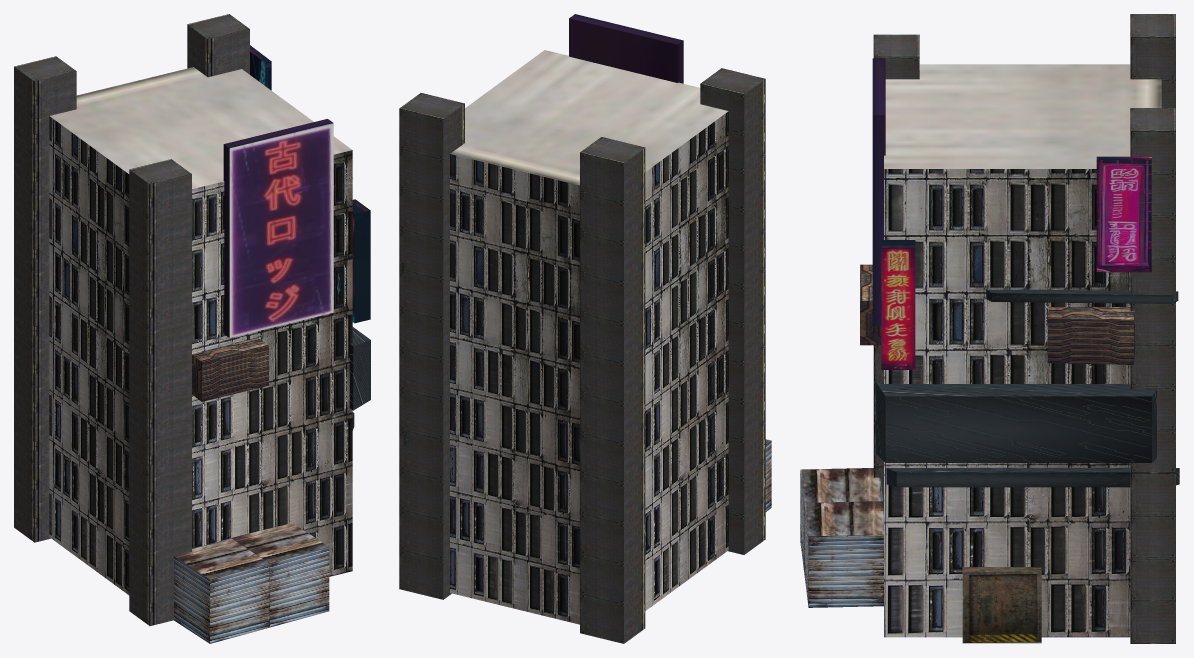
File: building_01.fbx
3 renders of one model, left to right at view 1: azimuth 30°, elevation 25°; view 2: azimuth 150°, elevation 25°; view 3: azimuth 270°, elevation 25°, orthographic. The views are drawn at different scales.
Visible parts, largest first — view 1: Cube, Cube.008, Cube.014, Cube.007, Cube.003, Cube.002, Cube.010, Cube.006, Cube.001, Cube.009, Cube.004; view 2: Cube, Cube.007, Cube.006, Cube.008, Cube.014; view 3: Cube, Cube.009, Cube.006, Cube.002, Cube.004, Cube.005, Cube.011, Cube.012, Cube.001, Cube.007, Cube.014, Cube.003 (+3 smaller).
Boxes of the visible parts, x1,y1,x2,y2 form: Cube: (49, 67, 352, 595); Cube.008: (129, 159, 191, 625); Cube.014: (223, 119, 333, 337); Cube.007: (14, 56, 76, 542); Cube.003: (174, 538, 269, 643); Cube.002: (231, 523, 329, 627); Cube.010: (192, 338, 268, 401); Cube.006: (187, 14, 249, 77); Cube.001: (352, 199, 370, 323); Cube.009: (349, 327, 370, 410); Cube.004: (250, 45, 271, 90); Cube: (450, 50, 728, 624); Cube.007: (580, 137, 645, 643); Cube.006: (399, 93, 464, 599); Cube.008: (700, 68, 765, 554); Cube.014: (569, 14, 683, 83); Cube: (884, 64, 1161, 637); Cube.009: (875, 382, 1156, 462); Cube.006: (1130, 108, 1175, 643); Cube.002: (804, 501, 883, 607); Cube.004: (1096, 156, 1151, 272); Cube.005: (962, 567, 1041, 643); Cube.011: (1047, 307, 1134, 364); Cube.012: (886, 468, 1179, 487); Cube.001: (881, 240, 915, 369); Cube.007: (1130, 14, 1175, 107); Cube.014: (872, 58, 885, 325); Cube.003: (800, 468, 883, 572).
Size of the model in its own units: 910 by 1724 by 1156.
Materials: 9 (9 with a texture image).
